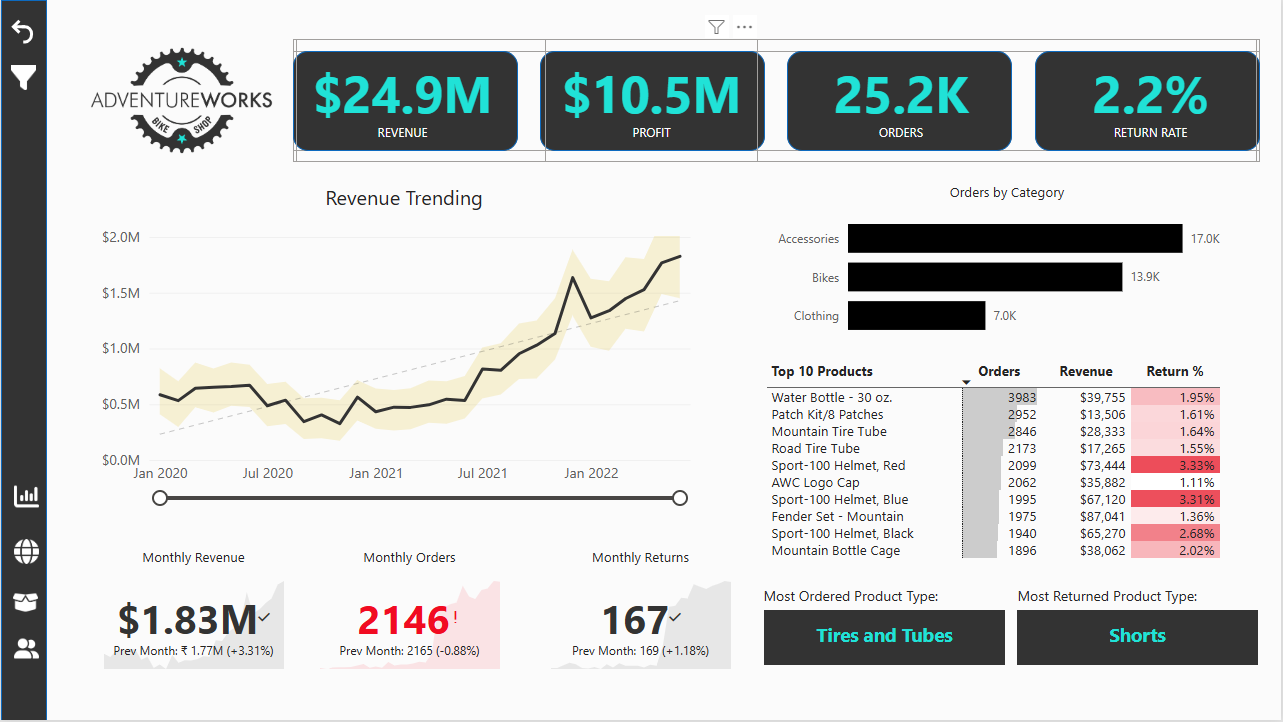

The dashboard page shown, as its layout file describes it:
{"tool":"powerbi","page":{"name":"Exec Dashboard","canvas":[1280,720],"ordinal":0},"visuals":[{"type":"shape","title":"Left Nav Background","box":[0,0,46.3,2132.3],"z":0},{"type":"card","fields":{"Values":["Measures Table.Total Revenue"]},"box":[294.5,39.1,212.8,123.1],"z":0,"group":"g2"},{"type":"group","id":"g1","title":"KPI's Background","box":[291.7,51.5,966.6,100],"z":0,"group":"g3"},{"type":"shape","box":[291.7,51.5,225,100],"z":0,"group":"g1"},{"type":"actionButton","box":[1,520.2,49,63],"z":0,"group":"g4"},{"type":"image","title":"AW Logo","box":[69.8,39.1,222,123],"z":1000},{"type":"group","id":"g2","title":"KPI's Values","box":[294.5,39.1,960.8,123.1],"z":1000,"group":"g3"},{"type":"card","fields":{"Values":["Measures Table.Total Profit"]},"box":[543.8,39.1,212.8,123.1],"z":1000,"group":"g2"},{"type":"shape","box":[538.9,51.5,225,100],"z":1000,"group":"g1"},{"type":"actionButton","box":[0,571.2,49,63],"z":1000,"group":"g4"},{"type":"actionButton","box":[1.5,13.9,40.1,34],"z":2000},{"type":"card","fields":{"Values":["Measures Table.Total Orders"]},"box":[793.1,39.1,212.8,123.1],"z":2000,"group":"g2"},{"type":"shape","box":[786.1,51.5,225,100],"z":2000,"group":"g1"},{"type":"actionButton","box":[1,616.8,49,63],"z":2000,"group":"g4"},{"type":"group","id":"g3","title":"KPI's","box":[291.7,39.1,967.3,122.8],"z":3000},{"type":"card","fields":{"Values":["Measures Table.Return Rate"]},"box":[1042.4,39.1,212.8,123.1],"z":3000,"group":"g2"},{"type":"shape","box":[1033.3,51.5,225,100],"z":3000,"group":"g1"},{"type":"actionButton","box":[1,464.8,49,63],"z":3000,"group":"g4"},{"type":"group","id":"g4","title":"Nav Buttons","box":[0,464.8,49.4,216.2],"z":4000},{"type":"lineChart","title":"Revenue Trending","fields":{"Category":["Calendar Lookup.Start of Month.1.Variation.Date Hierarchy.Year","Calendar Lookup.Start of Month.1.Variation.Date Hierarchy.Quarter","Calendar Lookup.Start of Month.1.Variation.Date Hierarchy.Month","Calendar Lookup.Start of Month.1.Variation.Date Hierarchy.Day"],"Y":["Measures Table.Total Revenue"]},"box":[84.3,168.6,638.6,351.4],"z":5000},{"type":"actionButton","box":[3.1,47.9,40.1,58.7],"z":6000},{"type":"kpi","title":"Monthly Revenue","fields":{"Goal":["Measures Table.Previous Month Revenue"],"Indicator":["Measures Table.Total Revenue"],"TrendLine":["Calendar Lookup.Start of month"]},"box":[87.1,534.1,212.2,150.8],"z":7000},{"type":"kpi","title":"Monthly Orders","fields":{"Goal":["Measures Table.Previous Month Orders"],"Indicator":["Measures Table.Total Orders"],"TrendLine":["Calendar Lookup.Start of month"]},"box":[303.1,534.1,212.2,150.8],"z":8000},{"type":"kpi","title":"Monthly Returns","fields":{"Goal":["Measures Table.Previous Month Returns"],"Indicator":["Measures Table.Total Returns"],"TrendLine":["Calendar Lookup.Start of month"]},"box":[534.1,534.1,212.2,150.8],"z":9000},{"type":"card","fields":{"Values":["Min(Product Subcategories Lookup.SubcategoryName)"]},"box":[762.9,609.6,240.7,55.9],"z":10000},{"type":"clusteredBarChart","title":"Orders by Category","fields":{"Category":["Product Categories Lookup.CategoryName"],"Y":["Measures Table.Total Orders"]},"box":[755.5,168.7,501.9,179.5],"z":11000},{"type":"pivotTable","fields":{"Rows":["Product Lookup.ProductName"],"Values":["Measures Table.Total Orders","Measures Table.Total Revenue","Measures Table.Return Rate"]},"box":[750.2,348.2,507.3,237.5],"z":12000},{"type":"textbox","box":[763.1,585.7,221.4,23.6],"z":13000},{"type":"card","fields":{"Values":["Min(Product Subcategories Lookup.SubcategoryName)"]},"box":[1016.4,609.6,240.7,55.9],"z":14000},{"type":"textbox","box":[1017,586.1,221.4,23.6],"z":15000}]}

Visuals, with their boxes on the page's 1280x720 design canvas (x1, y1, x2, y2). These are canvas units, not pixel positions in the 1283x722 screenshot, which may show the page scaled, cropped or inside an application window:
"Left Nav Background" shape: (0, 0, 46, 2132)
card - Measures Table.Total Revenue: (294, 39, 507, 162)
"KPI's Background" group: (292, 52, 1258, 152)
shape: (292, 52, 517, 152)
actionButton: (1, 520, 50, 583)
"AW Logo" image: (70, 39, 292, 162)
"KPI's Values" group: (294, 39, 1255, 162)
card - Measures Table.Total Profit: (544, 39, 757, 162)
shape: (539, 52, 764, 152)
actionButton: (0, 571, 49, 634)
actionButton: (2, 14, 42, 48)
card - Measures Table.Total Orders: (793, 39, 1006, 162)
shape: (786, 52, 1011, 152)
actionButton: (1, 617, 50, 680)
"KPI's" group: (292, 39, 1259, 162)
card - Measures Table.Return Rate: (1042, 39, 1255, 162)
shape: (1033, 52, 1258, 152)
actionButton: (1, 465, 50, 528)
"Nav Buttons" group: (0, 465, 49, 681)
"Revenue Trending" lineChart: (84, 169, 723, 520)
actionButton: (3, 48, 43, 107)
"Monthly Revenue" kpi: (87, 534, 299, 685)
"Monthly Orders" kpi: (303, 534, 515, 685)
"Monthly Returns" kpi: (534, 534, 746, 685)
card - Min(Product Subcategories Lookup.SubcategoryName): (763, 610, 1004, 666)
"Orders by Category" clusteredBarChart: (756, 169, 1257, 348)
pivotTable - Product Lookup.ProductName x Measures Table.Total Orders: (750, 348, 1258, 586)
textbox: (763, 586, 984, 609)
card - Min(Product Subcategories Lookup.SubcategoryName): (1016, 610, 1257, 666)
textbox: (1017, 586, 1238, 610)
